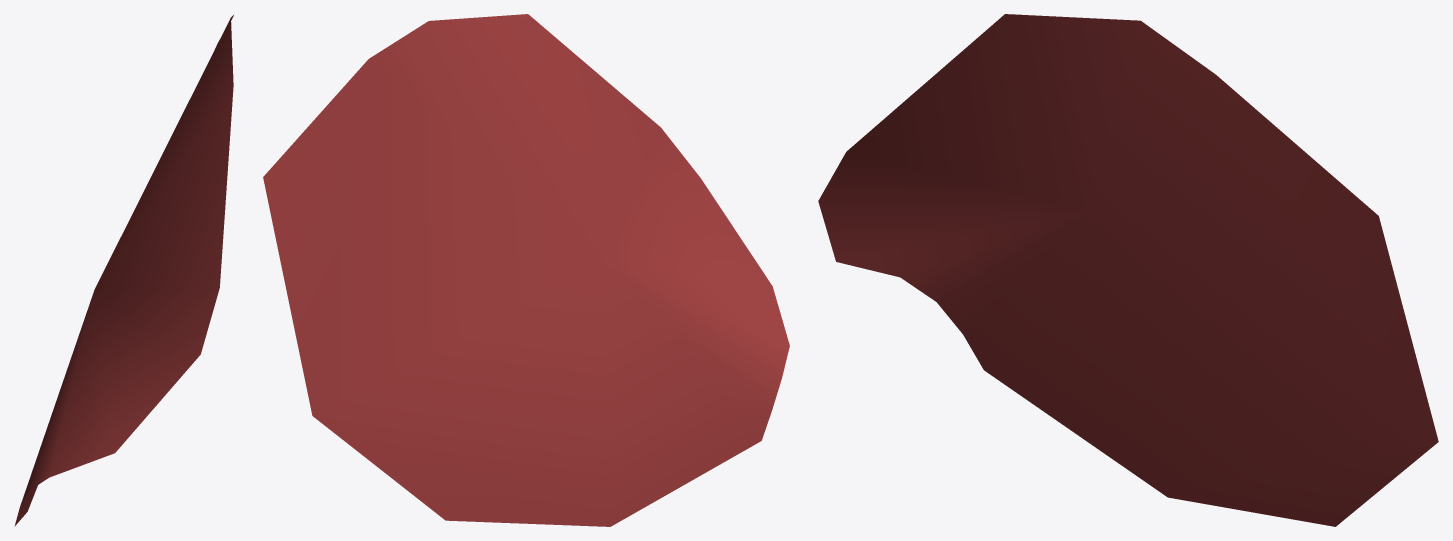
Rendered from abductor-pollicis-longus-er.glb.
3 views of the same model, side by side, from view 1: azimuth 30°, elevation 25°; view 2: azimuth 150°, elevation 25°; view 3: azimuth 270°, elevation 25° (orthographic). The views are drawn at different scales.
Parts seen in each view (by area): view 1: Abductor pollicis longus.er; view 2: Abductor pollicis longus.er; view 3: Abductor pollicis longus.er.
Boxes of the visible parts, left/top/right/bottom form: Abductor pollicis longus.er: left=14, top=15, right=233, bottom=526; Abductor pollicis longus.er: left=263, top=14, right=789, bottom=526; Abductor pollicis longus.er: left=818, top=14, right=1438, bottom=526.
Bounding box in the file's own units: 0.00527 × 0.00644 × 0.00602.
